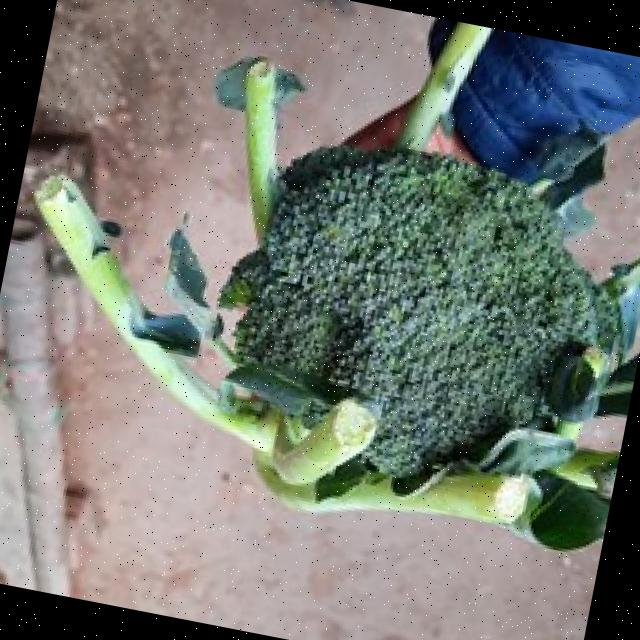Broccoli: (232, 146, 603, 477), (229, 146, 599, 477)
